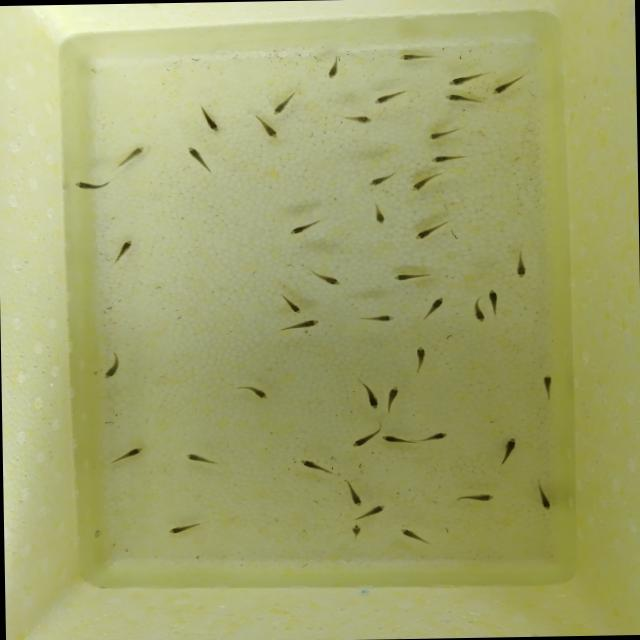fingerling: (402, 216, 454, 247), (180, 142, 220, 182), (302, 264, 351, 292), (487, 68, 529, 100), (110, 140, 150, 172), (107, 234, 143, 268), (384, 264, 438, 286), (280, 216, 328, 240), (193, 104, 226, 138), (332, 109, 381, 130), (316, 53, 349, 84), (293, 455, 337, 478), (392, 48, 444, 67), (508, 245, 534, 282), (423, 148, 471, 168), (405, 171, 445, 195), (64, 177, 120, 194), (268, 89, 300, 118), (364, 88, 410, 108), (437, 90, 488, 108), (106, 444, 147, 466), (354, 307, 399, 327), (423, 123, 465, 144), (439, 70, 486, 88), (420, 292, 448, 322), (359, 170, 400, 190), (256, 118, 285, 146), (274, 316, 324, 332), (532, 480, 557, 512), (348, 426, 380, 450), (162, 520, 210, 536), (235, 382, 275, 401), (182, 449, 222, 468), (366, 201, 392, 230), (395, 526, 432, 546), (496, 434, 519, 466), (451, 490, 497, 506), (276, 292, 306, 316), (408, 344, 432, 374), (484, 286, 504, 319), (102, 351, 124, 380), (468, 293, 487, 326), (343, 479, 364, 508), (384, 382, 404, 412), (538, 370, 556, 403), (360, 380, 380, 409), (362, 502, 391, 520), (410, 430, 450, 442), (382, 432, 416, 446), (346, 522, 366, 542)
